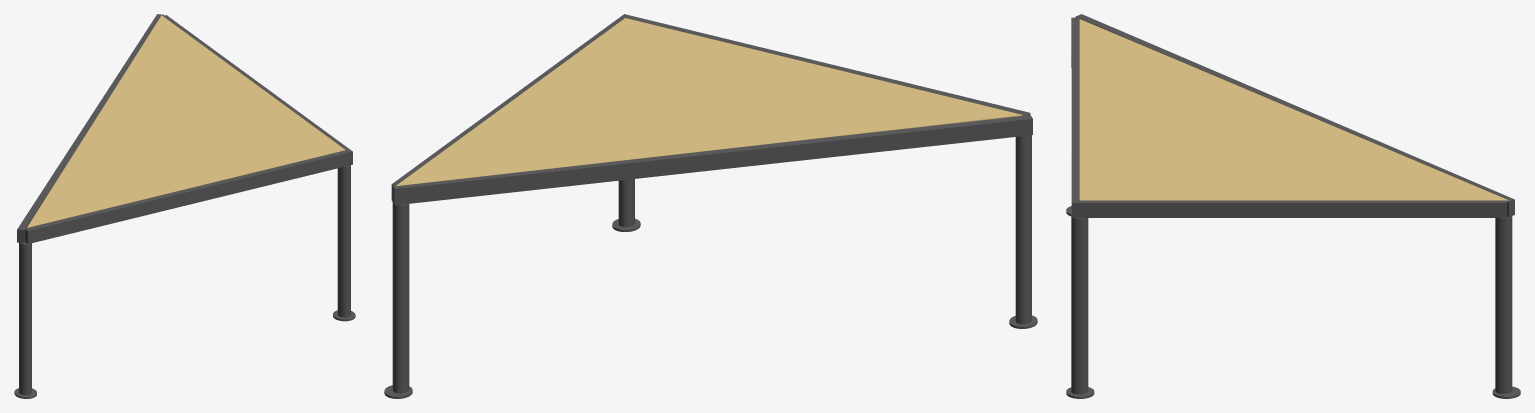
The model's file is table_triangle.fbx.
3 views of the same model, side by side, from view 1: azimuth 30°, elevation 25°; view 2: azimuth 150°, elevation 25°; view 3: azimuth 270°, elevation 25° (orthographic). The views are drawn at different scales.
Parts seen in each view (by area): view 1: Planche, Extremite, Pied.001, Pied.002, Extremite.002, Extremite.001; view 2: Planche, Extremite.002, Pied, Pied.002, Extremite, Extremite.001, Pied.001; view 3: Planche, Extremite.001, Pied.001, Pied, Extremite.002, Extremite.
Part boxes in pixels (x1,y1,x2,y2): Planche: (27,15,345,227); Extremite: (25,149,349,243); Pied.001: (337,165,350,317); Pied.002: (19,242,31,395); Extremite.002: (17,14,164,243); Extremite.001: (163,15,352,165); Planche: (396,18,1022,186); Extremite.002: (392,115,1032,205); Pied: (392,202,409,393); Pied.002: (1015,135,1031,324); Extremite: (624,15,1030,115); Extremite.001: (391,14,627,200); Pied.001: (618,179,634,227); Planche: (1079,19,1508,200); Extremite.001: (1072,200,1507,217); Pied.001: (1071,215,1088,394); Pied: (1495,216,1512,393); Extremite.002: (1075,14,1514,216); Extremite: (1071,17,1079,201).
Bounding box in the file's own units: 212 × 99.57 × 212.
